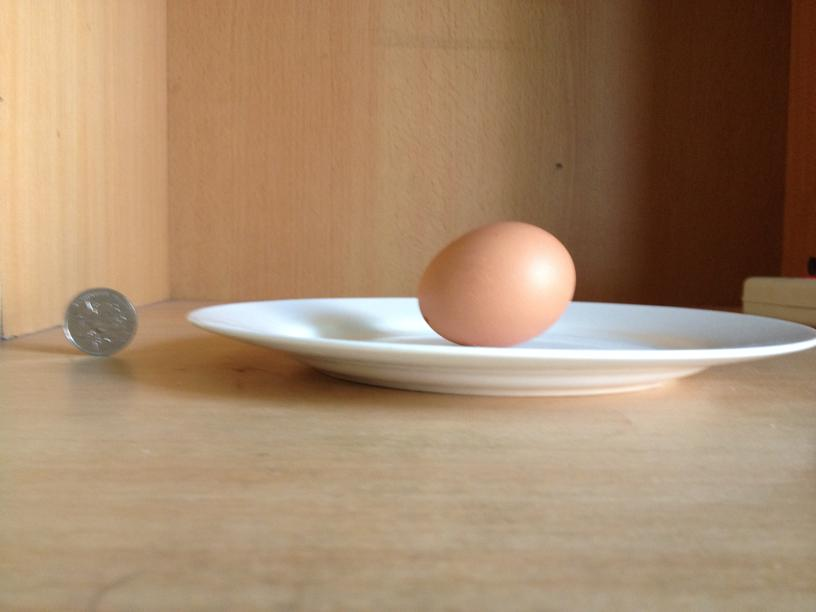coin: (64, 286, 135, 357)
egg: (417, 218, 578, 347)
